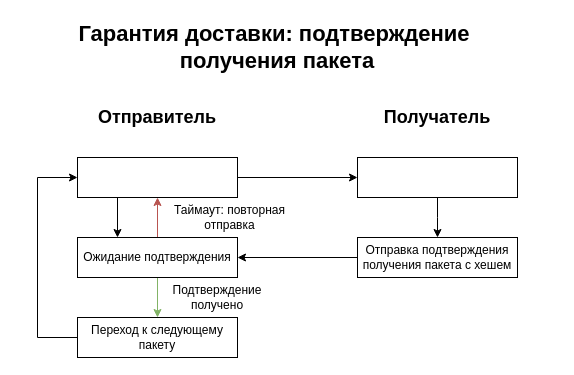
This 574x375 diagram has some shape labels left out. Each missing label, with the box of its shape:
Отправка пакета: (76, 156, 238, 198)
Получение пакета: (356, 156, 518, 198)
